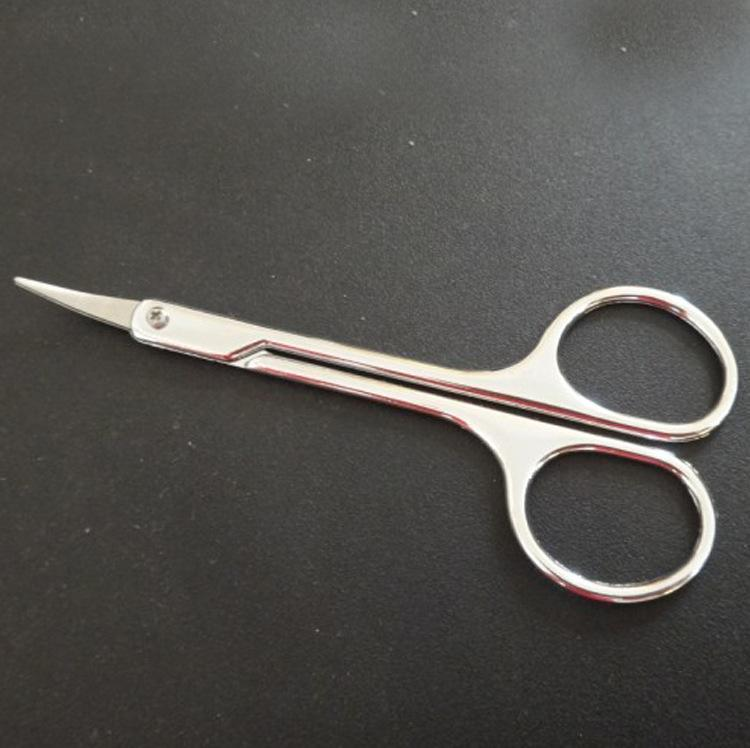scissor: (24, 155, 750, 607)
